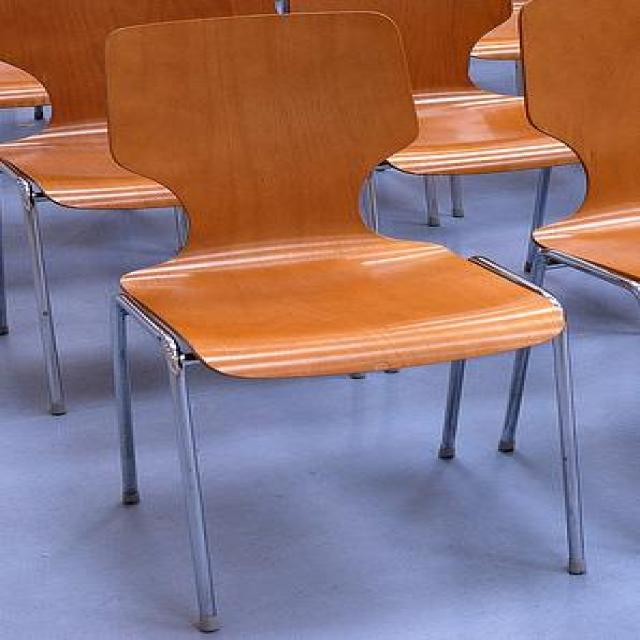chair: (103, 10, 589, 632)
